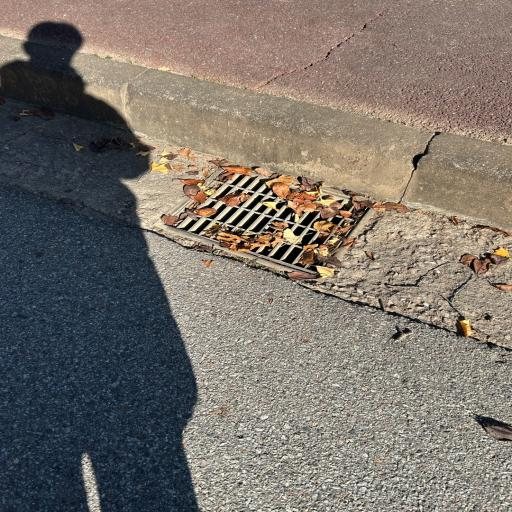debris: (204, 221, 301, 251), (217, 192, 252, 207), (258, 201, 277, 210)
drain: (169, 160, 376, 274)
